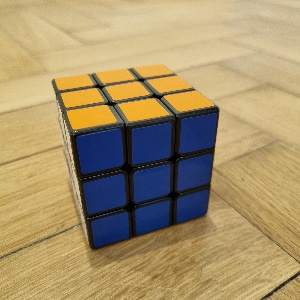cube: (52, 64, 221, 252)
